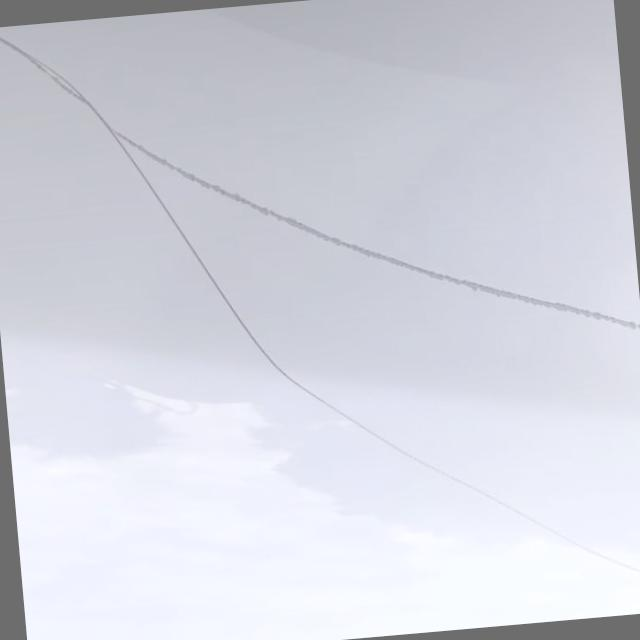crack: (81, 262, 556, 584), (326, 188, 610, 350)
